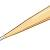baseball bat: (1, 2, 50, 42)
